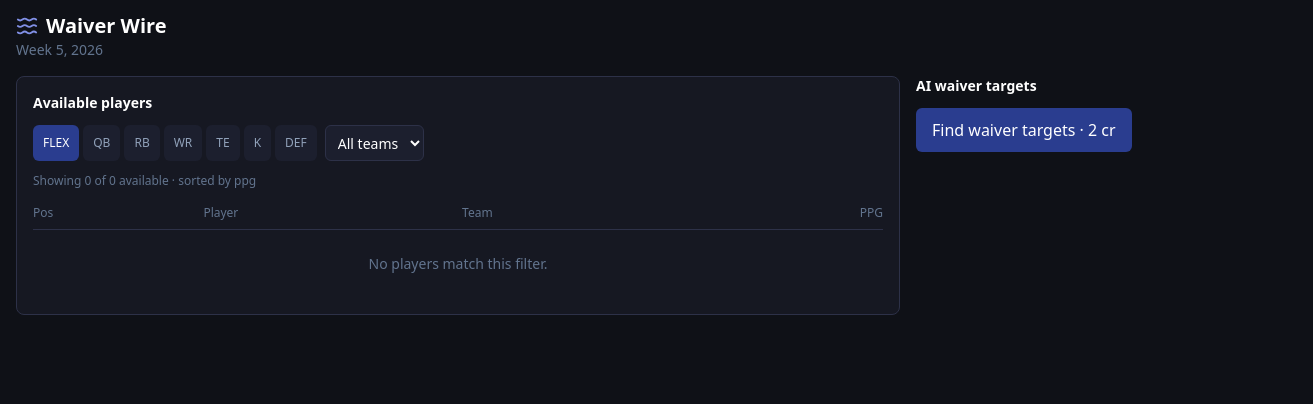
Test: Waiver page — the recommendation panel labels assumed money › says the SYSTEM is the unknown when we never established that the league bids
The image size is (1313, 404).
Click the button "Find waiver targets · 2 cr": (1024, 130) [916,108,1132,152]
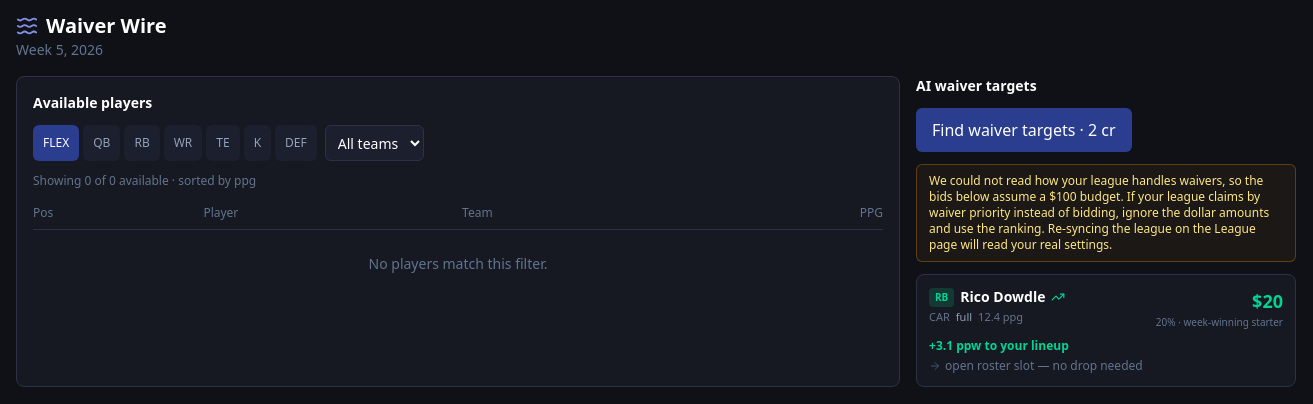
Expected: the text "ignore the dollar amounts and use the ranking" is shown, [929,172,1269,253]
